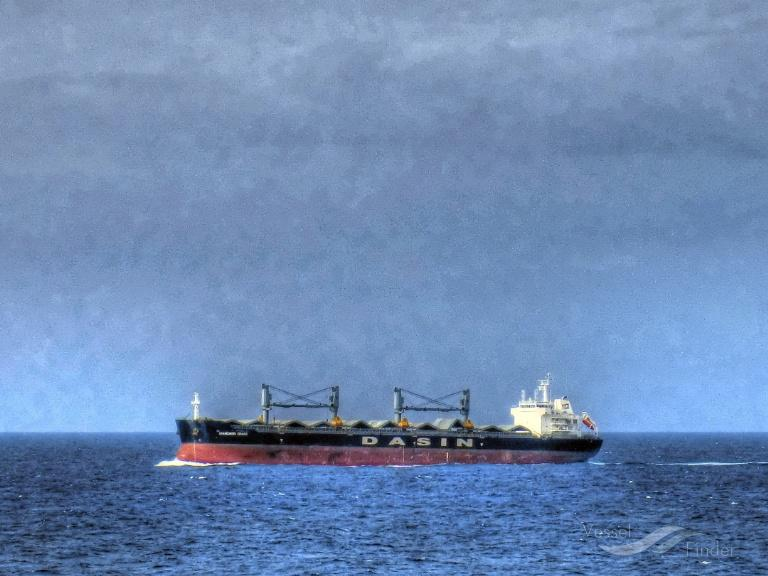OCR: (352, 432, 482, 454)
